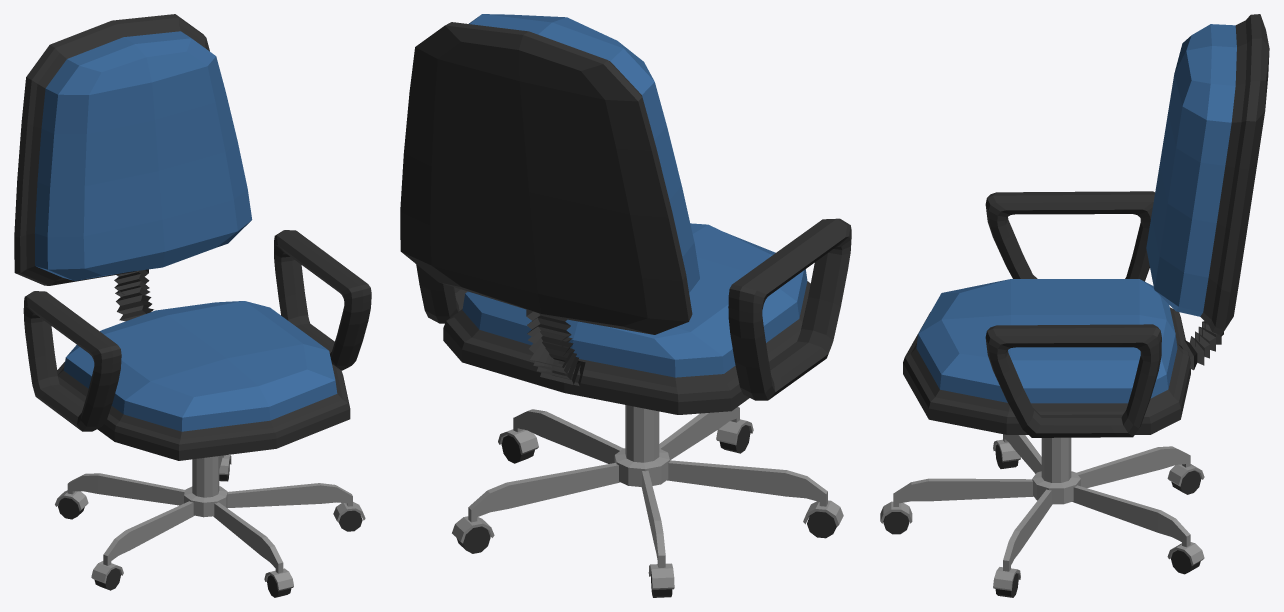
File: chair_blue.glb
The picture shows the model from 3 angles, left to right: view 1: azimuth 30°, elevation 25°; view 2: azimuth 150°, elevation 25°; view 3: azimuth 270°, elevation 25°; orthographic projection. The views are drawn at different scales.
Parts seen in each view (by area): view 1: OfficeChair; view 2: OfficeChair; view 3: OfficeChair.
Boxes of the visible parts, bbox=[...] form: OfficeChair: bbox=[14, 14, 371, 597]; OfficeChair: bbox=[400, 14, 851, 597]; OfficeChair: bbox=[880, 14, 1269, 597].
Bounding box in the file's own units: 0.7216 × 1.13 × 0.8072.
